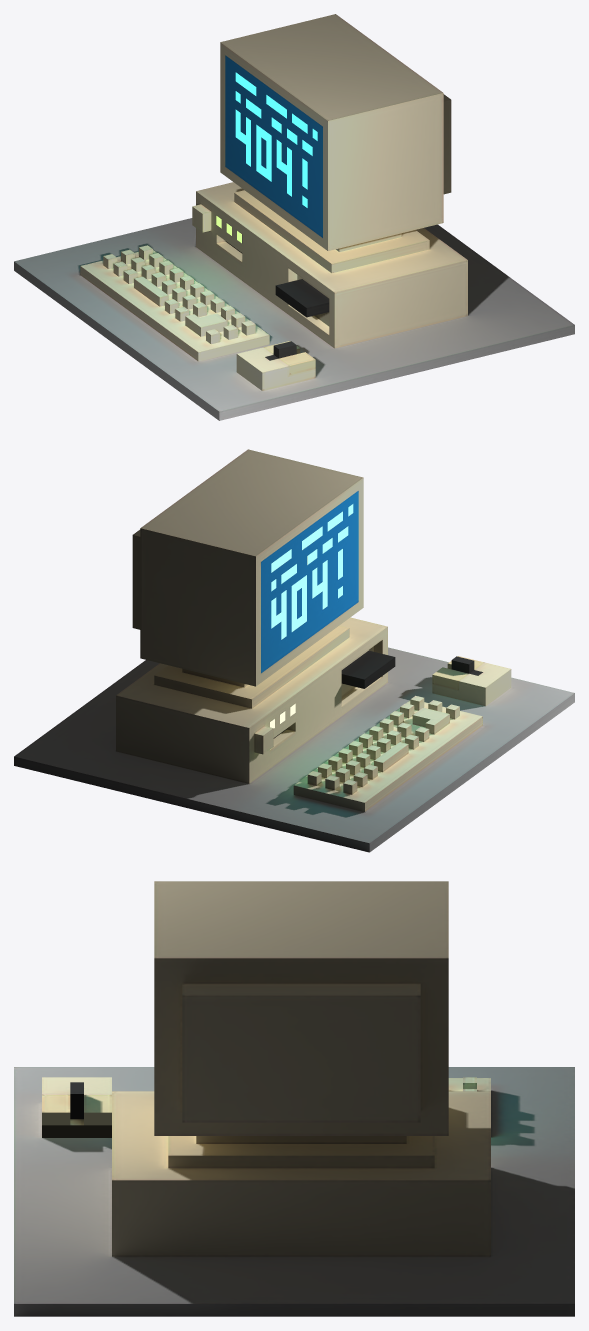
File: computerGlow.gltf
3 views of the same model, one above another, from view 1: azimuth 30°, elevation 25°; view 2: azimuth 150°, elevation 25°; view 3: azimuth 270°, elevation 25° (orthographic). The views are drawn at different scales.
Parts seen in each view (by area): view 1: untitled; view 2: untitled; view 3: untitled.
Boxes of the visible parts, <box> form: untitled: <box>14,14,574,420</box>; untitled: <box>14,449,574,852</box>; untitled: <box>14,881,574,1316</box>.
Size of the model in its own units: 4 by 2.4 by 4.
4 materials, 2 textured.
